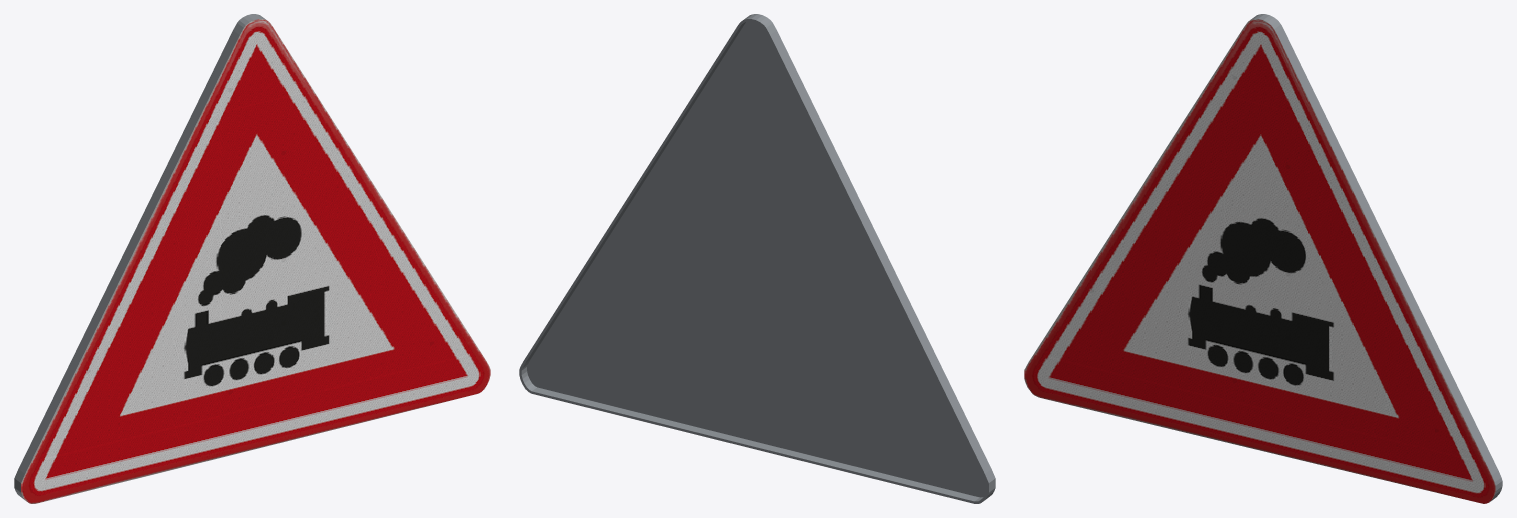
3 renders of one model, left to right at view 1: azimuth 30°, elevation 25°; view 2: azimuth 150°, elevation 25°; view 3: azimuth 330°, elevation 25°, orthographic.
Visible parts, largest first — view 1: cat_fee93618d7e2c496; view 2: cat_fee93618d7e2c496; view 3: cat_fee93618d7e2c496.
Boxes of the visible parts, bbox=[...] form: cat_fee93618d7e2c496: bbox=[14, 14, 490, 503]; cat_fee93618d7e2c496: bbox=[519, 14, 995, 503]; cat_fee93618d7e2c496: bbox=[1024, 14, 1502, 503].
Bounding box in the file's own units: 0.6 × 0.015 × 0.5256.
Materials: 2 (1 with a texture image).
